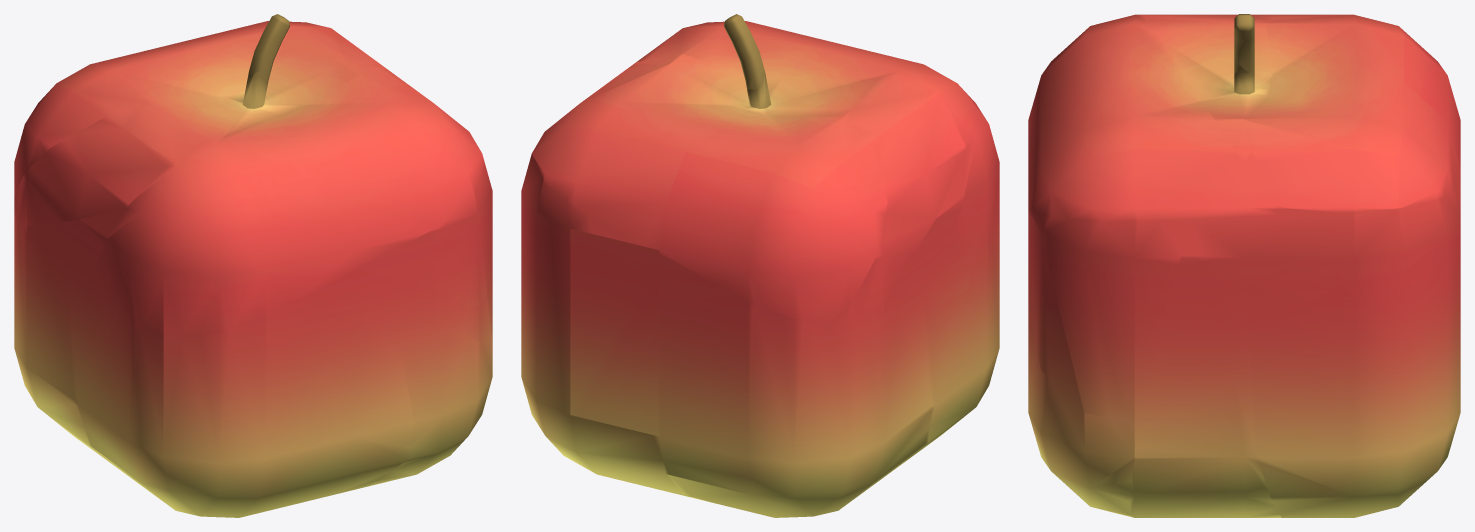
The model's file is blockBreak.fbx.
The picture shows the model from 3 angles, left to right: view 1: azimuth 30°, elevation 25°; view 2: azimuth 150°, elevation 25°; view 3: azimuth 270°, elevation 25°; orthographic projection. The views are drawn at different scales.
Parts seen in each view (by area): view 1: shard2, shard9, shard8, shard15, shard6, shard1, shard10, shard14, shard5, shard13; view 2: shard15, shard10, shard12, shard8, shard2, shard9, shard7, shard14, shard5; view 3: shard12, shard15, shard2, shard6, shard3, shard8, shard1, shard5.
Part boxes in pixels (x1,y1,x2,y2): shard2: (86,69,485,336); shard9: (60,267,414,517); shard8: (14,63,386,226); shard15: (14,21,379,195); shard6: (345,165,492,341); shard1: (369,328,492,486); shard10: (14,215,111,462); shard14: (20,211,124,287); shard5: (247,14,289,79); shard13: (390,299,446,343); shard15: (532,64,887,322); shard10: (606,278,931,517); shard12: (521,153,692,497); shard8: (629,54,965,323); shard2: (636,21,999,275); shard9: (904,227,999,462); shard7: (589,215,918,313); shard14: (866,156,965,319); shard5: (724,14,764,89); shard12: (1190,188,1460,517); shard15: (1244,14,1460,214); shard2: (1028,14,1277,221); shard6: (1028,206,1190,422); shard3: (1128,222,1281,517); shard8: (1144,14,1284,207); shard1: (1028,321,1142,516); shard5: (1234,14,1254,75).
Size of the model in its own units: 82.1 by 96.44 by 82.1.
